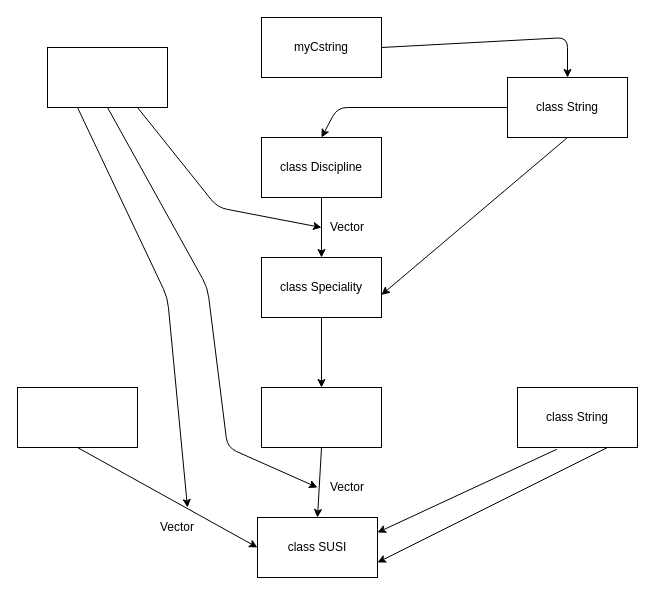
Image size: 655x595. Some labels were removed from this diagram. The box of each missing label's shape, as (x1, y1, x2, y2) in pixels:
class Specialiality: (16, 386, 138, 448)
class Student: (260, 386, 382, 448)
class Vector: (46, 46, 168, 108)
